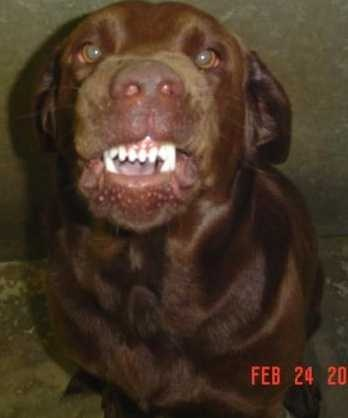dog: (25, 16, 301, 370)
